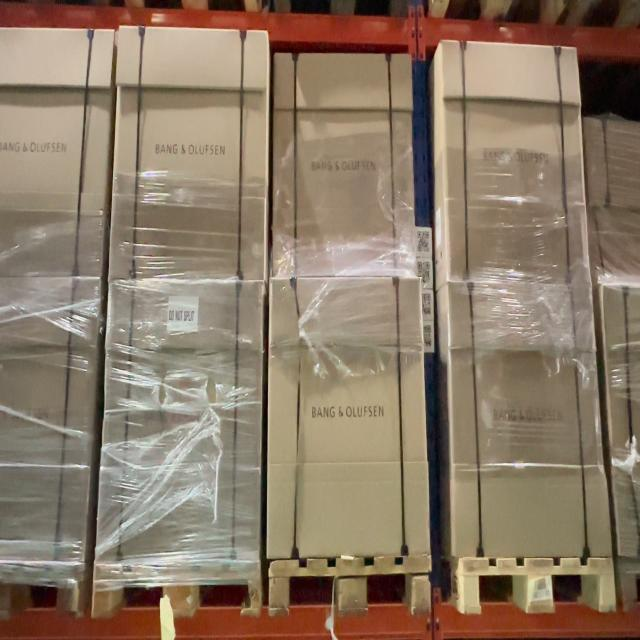box: (98, 280, 269, 554), (267, 276, 433, 554), (444, 289, 616, 552), (116, 30, 264, 275), (442, 47, 586, 273), (273, 48, 411, 272)
